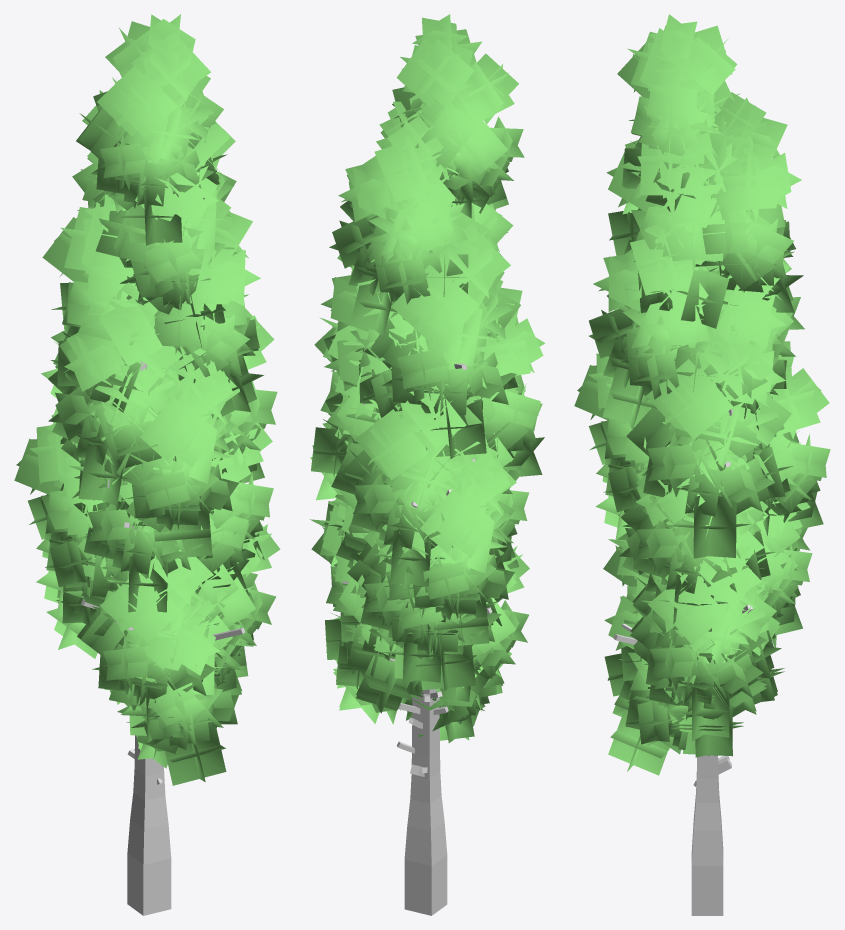
File: Wintery Aspen.fbx
The picture shows the model from 3 angles, left to right: view 1: azimuth 30°, elevation 25°; view 2: azimuth 150°, elevation 25°; view 3: azimuth 270°, elevation 25°; orthographic projection. The views are drawn at different scales.
Visible parts, largest first — view 1: Wintery Aspen 2 LOD 0, Wintery Aspen 3 LOD 0, Wintery Aspen 1 LOD 0, Wintery Aspen 4 LOD 0, Wintery Aspen 5 LOD 0; view 2: Wintery Aspen 2 LOD 0, Wintery Aspen 3 LOD 0, Wintery Aspen 1 LOD 0, Wintery Aspen 5 LOD 0, Wintery Aspen 4 LOD 0; view 3: Wintery Aspen 2 LOD 0, Wintery Aspen 3 LOD 0, Wintery Aspen 1 LOD 0, Wintery Aspen 4 LOD 0, Wintery Aspen 5 LOD 0.
Part boxes in pixels (x1,y1,x2,y2): Wintery Aspen 2 LOD 0: (48,14,273,915); Wintery Aspen 3 LOD 0: (41,116,277,690); Wintery Aspen 1 LOD 0: (14,346,280,677); Wintery Aspen 4 LOD 0: (46,447,253,785); Wintery Aspen 5 LOD 0: (58,376,257,784); Wintery Aspen 2 LOD 0: (322,14,544,915); Wintery Aspen 3 LOD 0: (310,95,529,728); Wintery Aspen 1 LOD 0: (310,256,523,714); Wintery Aspen 5 LOD 0: (324,327,529,772); Wintery Aspen 4 LOD 0: (333,549,511,776); Wintery Aspen 2 LOD 0: (589,14,830,915); Wintery Aspen 3 LOD 0: (606,110,812,753); Wintery Aspen 1 LOD 0: (574,233,803,741); Wintery Aspen 4 LOD 0: (604,461,799,775); Wintery Aspen 5 LOD 0: (603,322,810,787).
Size of what is drawn, in the model's own units: 712 by 2759 by 718.
